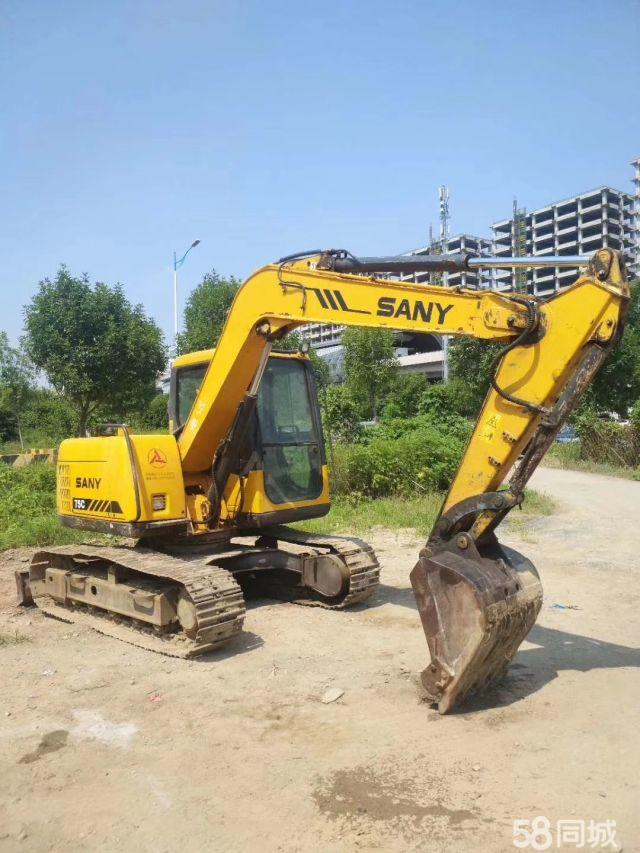excavator: (25, 223, 635, 722)
